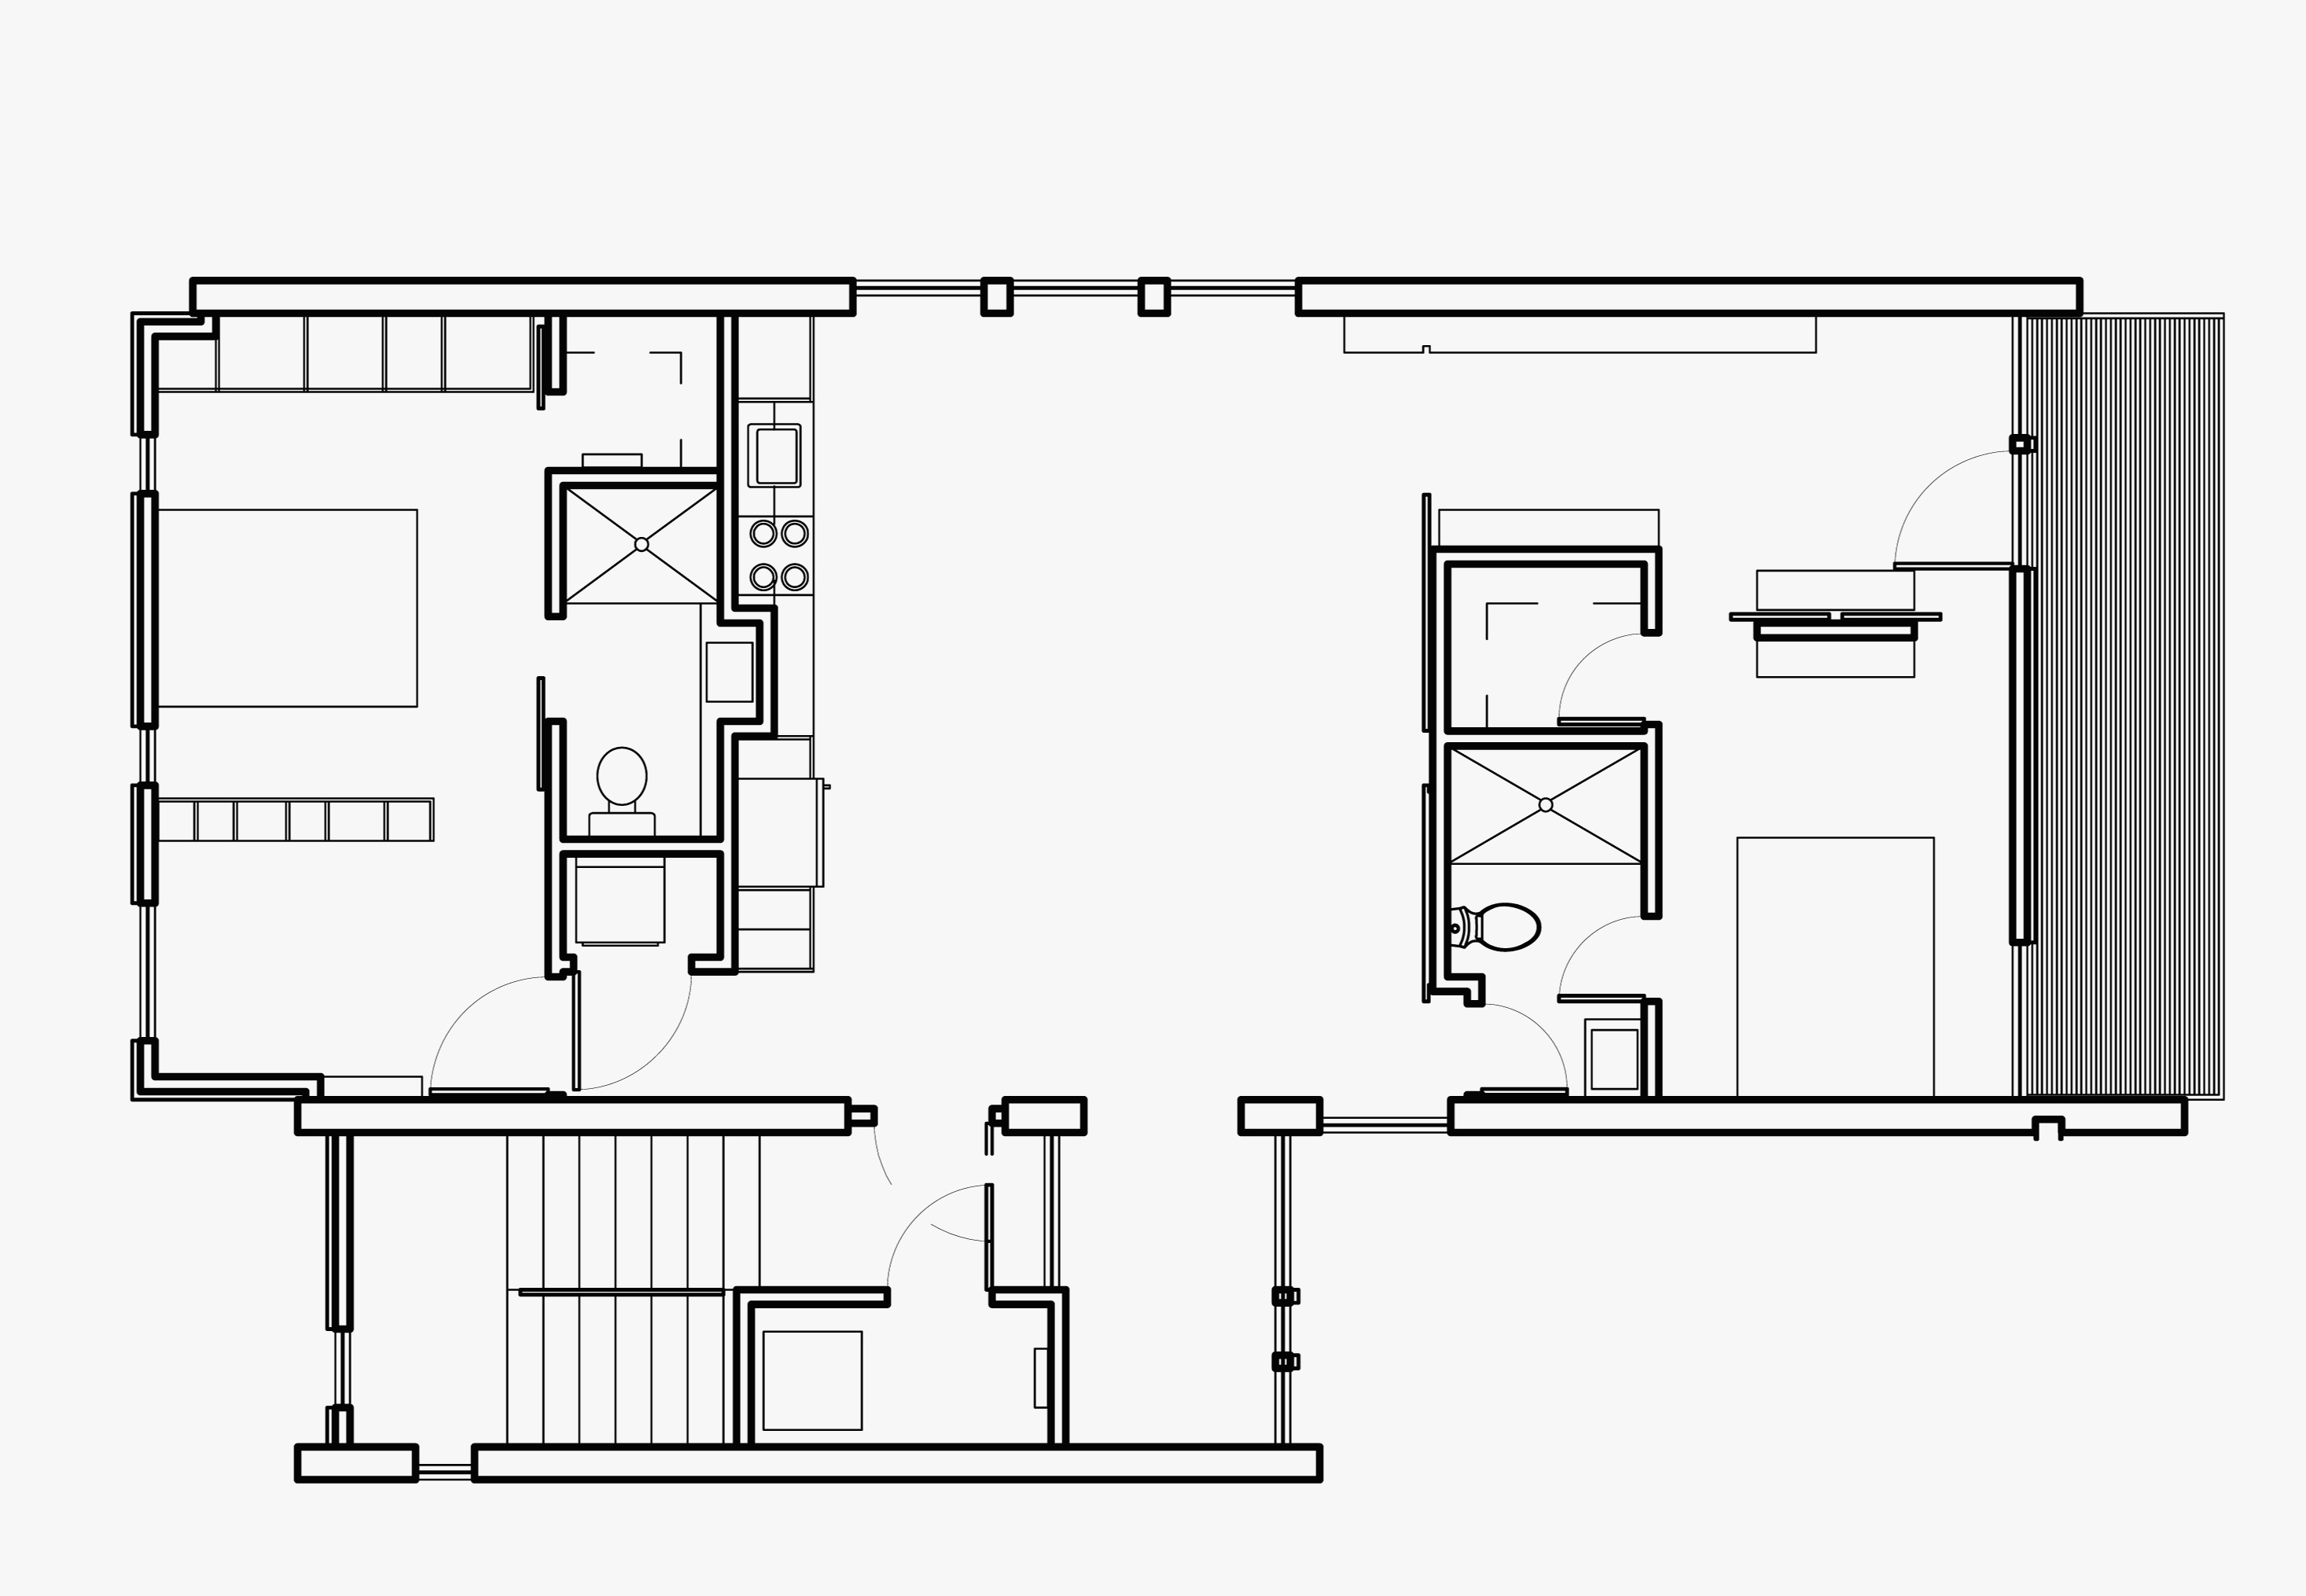door: (426, 967, 538, 1093), (575, 981, 697, 1091), (1892, 450, 2005, 568), (885, 1181, 990, 1284), (1549, 631, 1638, 722), (1556, 915, 1637, 999), (1493, 1002, 1574, 1086)
